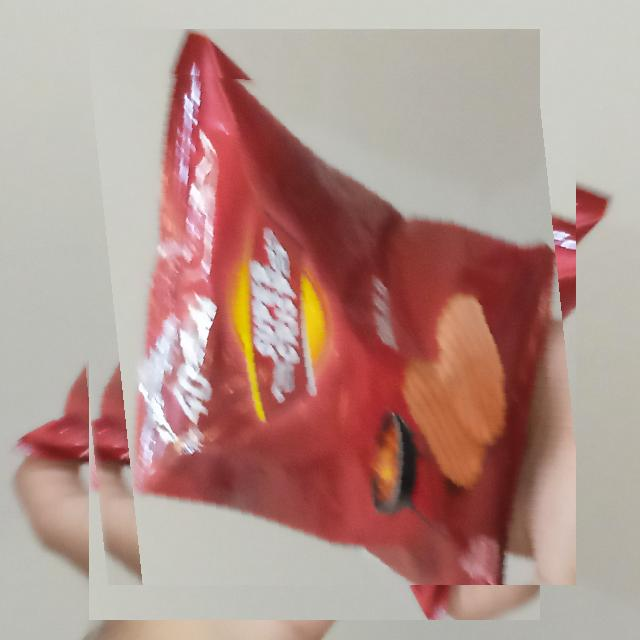Plastic: (54, 64, 576, 585)
